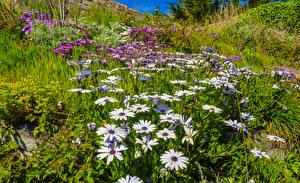chamomile: (96, 142, 130, 164), (162, 149, 187, 171), (97, 121, 123, 142), (111, 168, 140, 183), (131, 122, 159, 136), (93, 94, 123, 107), (158, 111, 183, 126), (113, 105, 134, 122), (152, 128, 176, 142), (159, 92, 183, 106), (128, 104, 152, 116), (137, 138, 158, 151)
